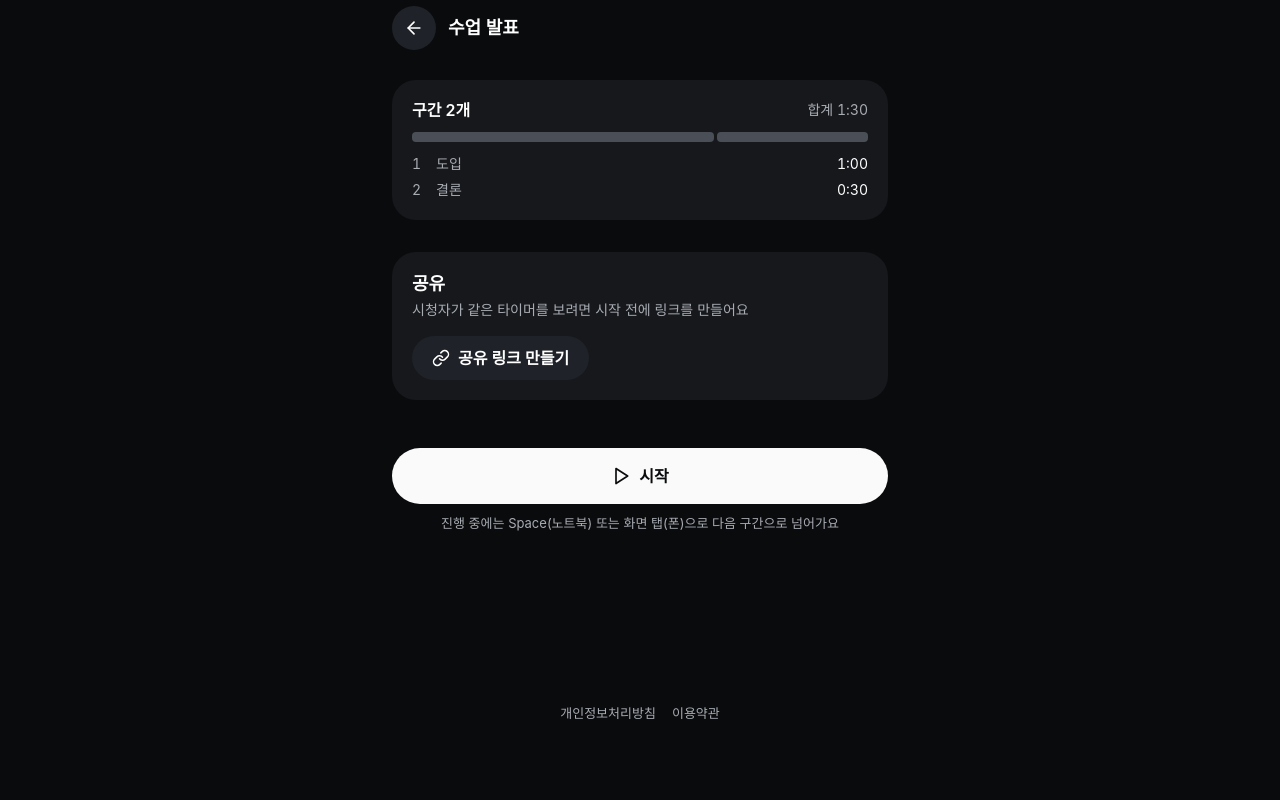
RunScreen › keeps the result with an error if restart cannot reread the timer
The image size is (1280, 800).
Click the button "시작". click: (640, 476)
box: [392,448,888,504]
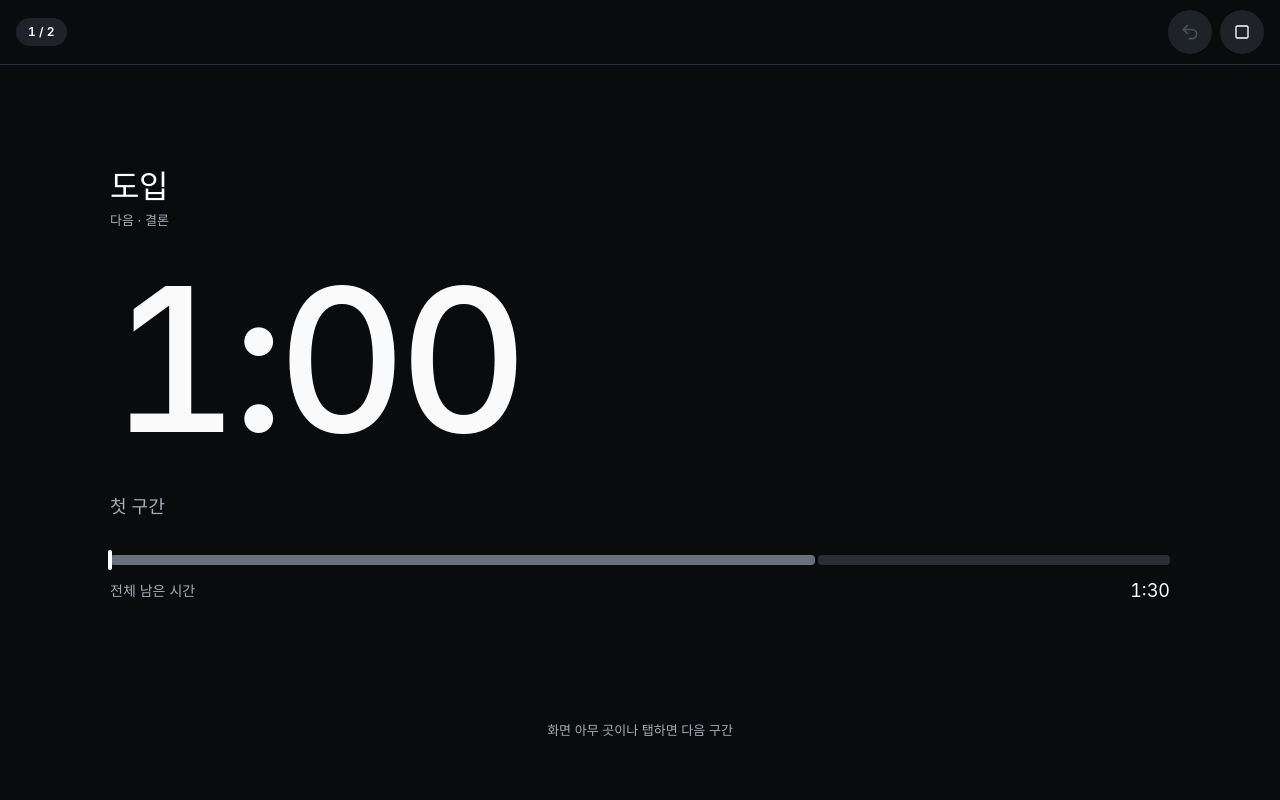
Press Space
Wait 500 ms
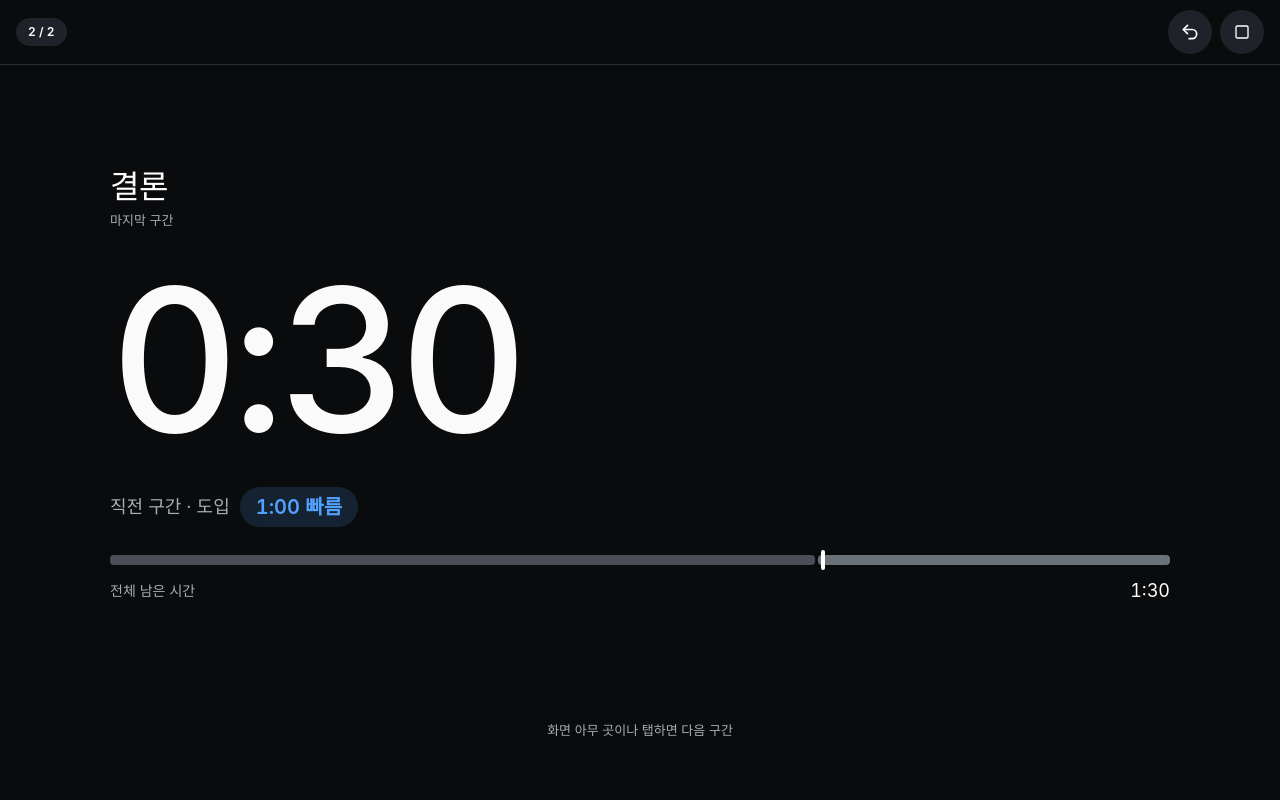
Press Space
Wait 500 ms
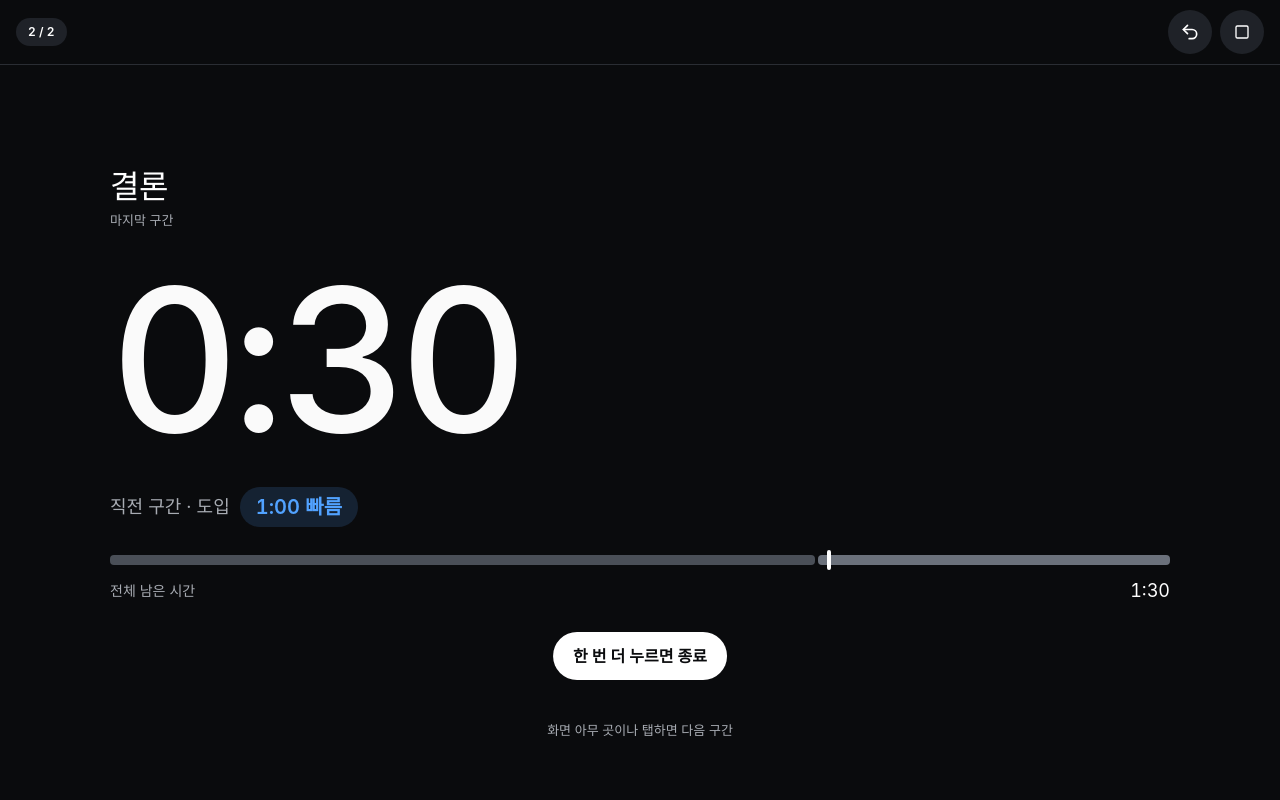
Press Space
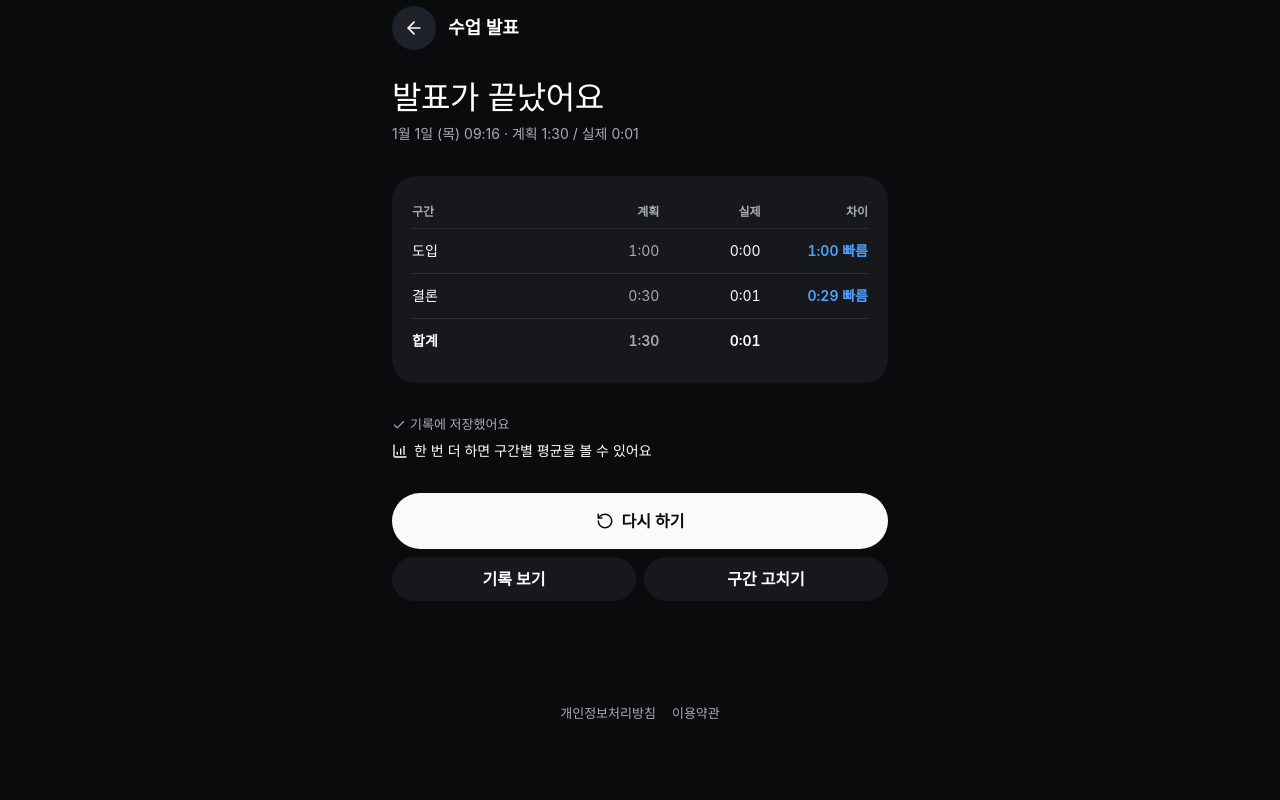
Click the button "다시 하기". click: (640, 521)
box: [392,493,888,549]
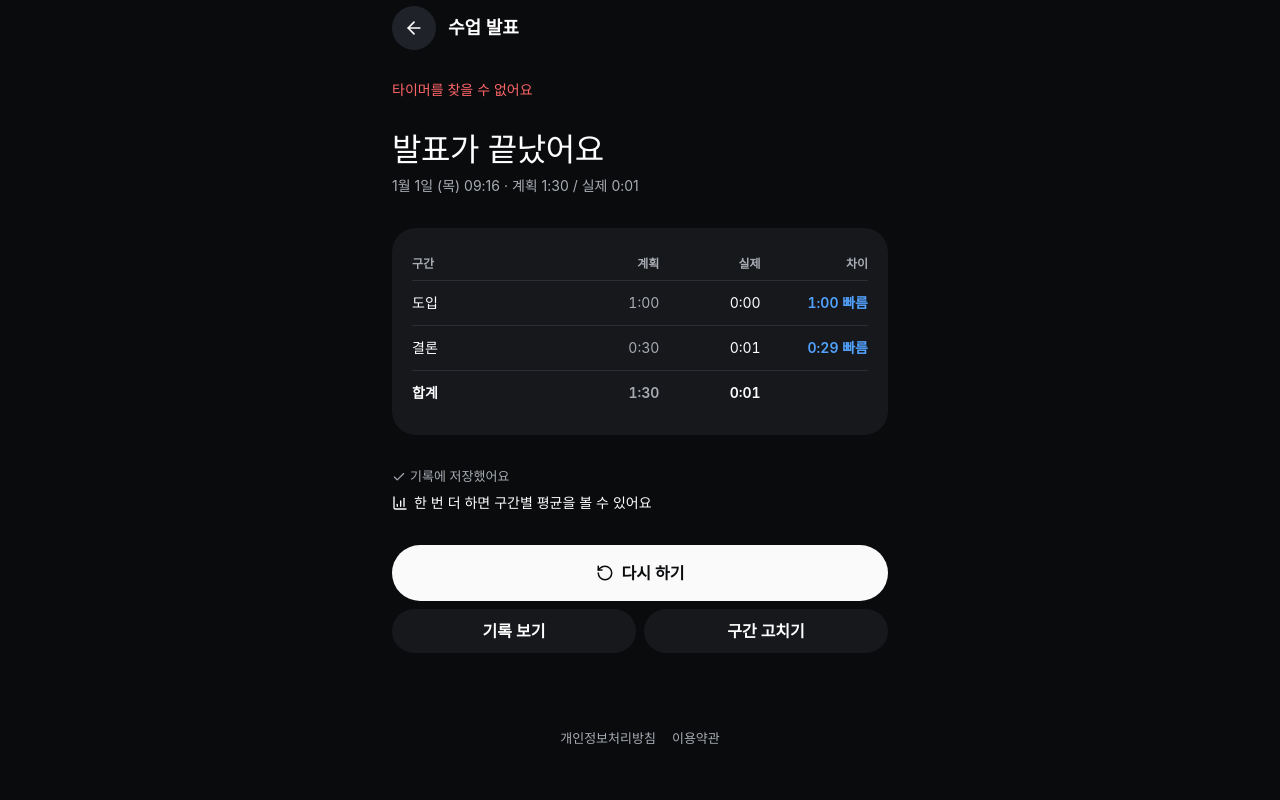
Now the table is shown, box [412,248,868,415]
Now the message "타이머를 찾을 수 없어요" is shown, box [392,81,533,98]
